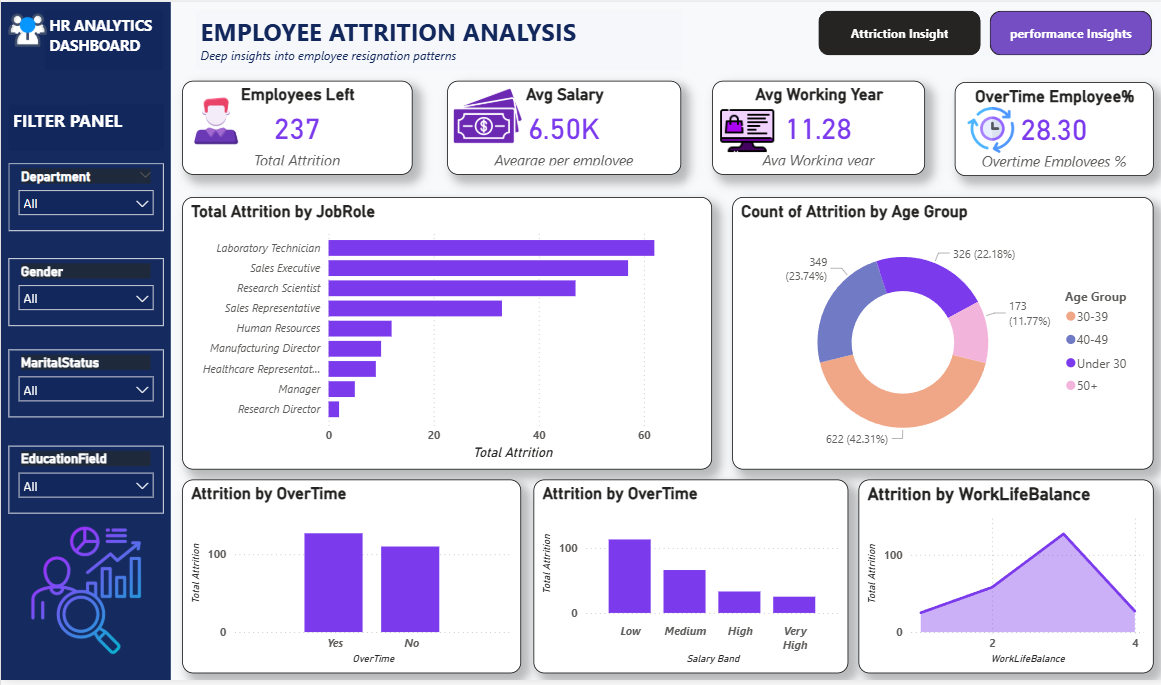

What the dashboard file says about the page in this screenshot:
{"tool":"powerbi","page":{"name":"Attriction Insight","canvas":[1280,745],"ordinal":1},"visuals":[{"type":"shape","box":[0,0,186.6,745.1],"z":0},{"type":"textbox","box":[8.2,112.5,170.2,50.8],"z":1000},{"type":"card","title":"Employees Left","fields":{"Values":["HR DATA CLEANED xlsx.Total Attrition"]},"box":[199,86.4,252.5,102.9],"z":2000},{"type":"card","title":"Avg Salary","fields":{"Values":["HR DATA CLEANED xlsx.Avearge per employee"]},"box":[489.9,86.4,256.6,102.9],"z":3000},{"type":"card","title":"Avg Working Year","fields":{"Values":["HR DATA CLEANED xlsx.Avg Working year"]},"box":[780.8,86.4,233.3,102.9],"z":4000},{"type":"card","title":"OverTime Employee%","fields":{"Values":["HR DATA CLEANED xlsx.Overtime Employees %"]},"box":[1047,87.8,218.2,102.9],"z":5000},{"type":"clusteredBarChart","fields":{"Category":["HR DATA CLEANED xlsx.JobRole"],"Y":["HR DATA CLEANED xlsx.Total Attrition"]},"box":[199,214.1,581.8,299.1],"z":6000},{"type":"donutChart","fields":{"Category":["HR DATA CLEANED xlsx.Age Group"],"Y":["CountNonNull(HR DATA CLEANED xlsx.Attrition)"]},"box":[802.7,214.1,462.4,299.1],"z":7000},{"type":"clusteredColumnChart","title":" Attrition by OverTime","fields":{"Category":["HR DATA CLEANED xlsx.OverTime"],"Y":["HR DATA CLEANED xlsx.Total Attrition"]},"box":[199,524.2,371.9,212.7],"z":8000},{"type":"clusteredColumnChart","title":" Attrition by OverTime","fields":{"Category":["HR DATA CLEANED xlsx.Salary Band"],"Y":["HR DATA CLEANED xlsx.Total Attrition"]},"box":[584.6,524.2,345.8,212.7],"z":9000},{"type":"areaChart","title":" Attrition by WorkLifeBalance","fields":{"Category":["HR DATA CLEANED xlsx.WorkLifeBalance"],"Y":["HR DATA CLEANED xlsx.Total Attrition"]},"box":[941.3,524.2,323.8,212.7],"z":10000},{"type":"slicer","fields":{"Values":["HR DATA CLEANED xlsx.Department"]},"box":[8.2,177,170.2,74.1],"z":11000},{"type":"slicer","fields":{"Values":["HR DATA CLEANED xlsx.Gender"]},"box":[8.2,281.3,170.2,74.1],"z":12000},{"type":"slicer","fields":{"Values":["HR DATA CLEANED xlsx.MaritalStatus"]},"box":[8.2,381.5,170.2,74.1],"z":13000},{"type":"slicer","fields":{"Values":["HR DATA CLEANED xlsx.EducationField"]},"box":[8.2,487.1,170.2,74.1],"z":14000},{"type":"textbox","box":[48,9.6,130.4,64.5],"z":15000},{"type":"textbox","box":[214.1,9.6,532.4,64.5],"z":16000},{"type":"image","box":[8.2,572.2,170.2,146.8],"z":17000},{"type":"image","box":[1034.7,115.3,104.3,50.8],"z":18000},{"type":"image","box":[780.8,108.4,76.8,65.9],"z":19000},{"type":"image","box":[489.9,87.8,89.2,74.1],"z":20000},{"type":"image","box":[199,87.8,74.1,89.2],"z":21000},{"type":"image","box":[0,9.6,59,42.5],"z":22000},{"type":"pageNavigator","box":[897.4,9.6,367.8,49.4],"z":23000}]}

Visuals, with their boxes in screenshot pixels (x1, y1, x2, y2), scaled from the page's 1280x745 canvas onto the 1161x685 screenshot:
shape: [left=0, top=0, right=169, bottom=684]
textbox: [left=7, top=103, right=162, bottom=150]
"Employees Left" card: [left=180, top=79, right=410, bottom=174]
"Avg Salary" card: [left=444, top=79, right=677, bottom=174]
"Avg Working Year" card: [left=708, top=79, right=920, bottom=174]
"OverTime Employee%" card: [left=950, top=81, right=1148, bottom=175]
clusteredBarChart - HR DATA CLEANED xlsx.JobRole x HR DATA CLEANED xlsx.Total Attrition: [left=180, top=197, right=708, bottom=472]
donutChart - HR DATA CLEANED xlsx.Age Group x CountNonNull(HR DATA CLEANED xlsx.Attrition): [left=728, top=197, right=1147, bottom=472]
" Attrition by OverTime" clusteredColumnChart: [left=180, top=482, right=518, bottom=678]
" Attrition by OverTime" clusteredColumnChart: [left=530, top=482, right=844, bottom=678]
" Attrition by WorkLifeBalance" areaChart: [left=854, top=482, right=1147, bottom=678]
slicer - HR DATA CLEANED xlsx.Department: [left=7, top=163, right=162, bottom=231]
slicer - HR DATA CLEANED xlsx.Gender: [left=7, top=259, right=162, bottom=327]
slicer - HR DATA CLEANED xlsx.MaritalStatus: [left=7, top=351, right=162, bottom=419]
slicer - HR DATA CLEANED xlsx.EducationField: [left=7, top=448, right=162, bottom=516]
textbox: [left=44, top=9, right=162, bottom=68]
textbox: [left=194, top=9, right=677, bottom=68]
image: [left=7, top=526, right=162, bottom=661]
image: [left=939, top=106, right=1033, bottom=153]
image: [left=708, top=100, right=778, bottom=160]
image: [left=444, top=81, right=525, bottom=149]
image: [left=180, top=81, right=248, bottom=163]
image: [left=0, top=9, right=54, bottom=48]
pageNavigator: [left=814, top=9, right=1148, bottom=54]
